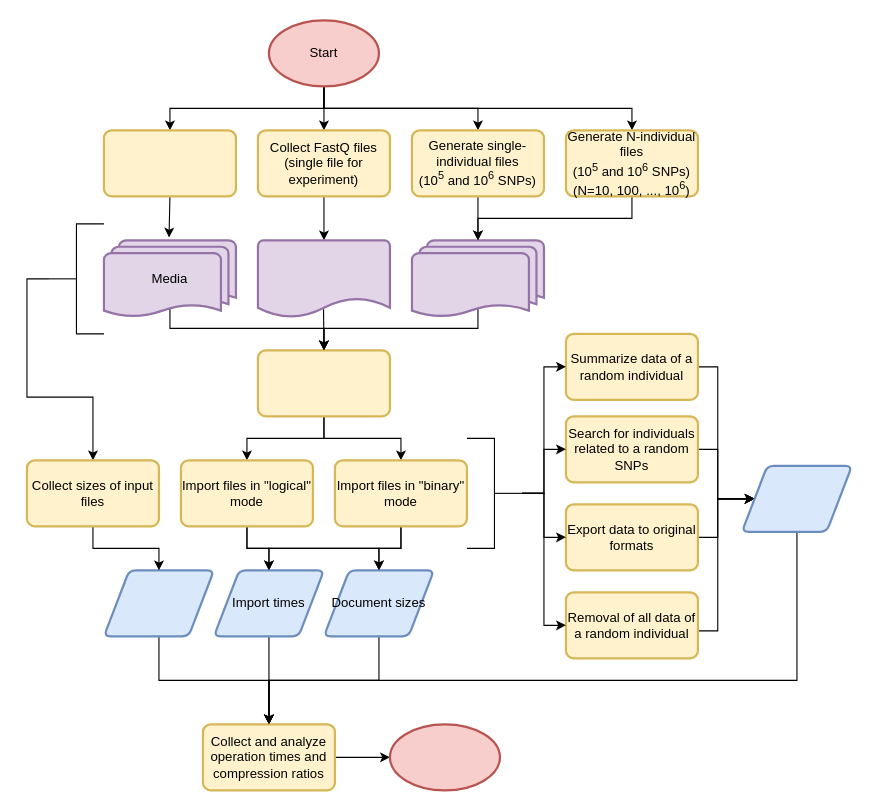
This 872x810 diagram has some shape labels left out. Each missing label, with the box of its shape:
0125, FR, VCF, PLINK: (410, 239, 544, 318)
End: (388, 723, 501, 791)
FastQ: (256, 239, 391, 318)
File sizes: (102, 569, 215, 637)
Generate media files: (102, 129, 237, 197)
Operation times: (740, 464, 853, 532)
Reset Database before operations for each file: (256, 349, 391, 417)
